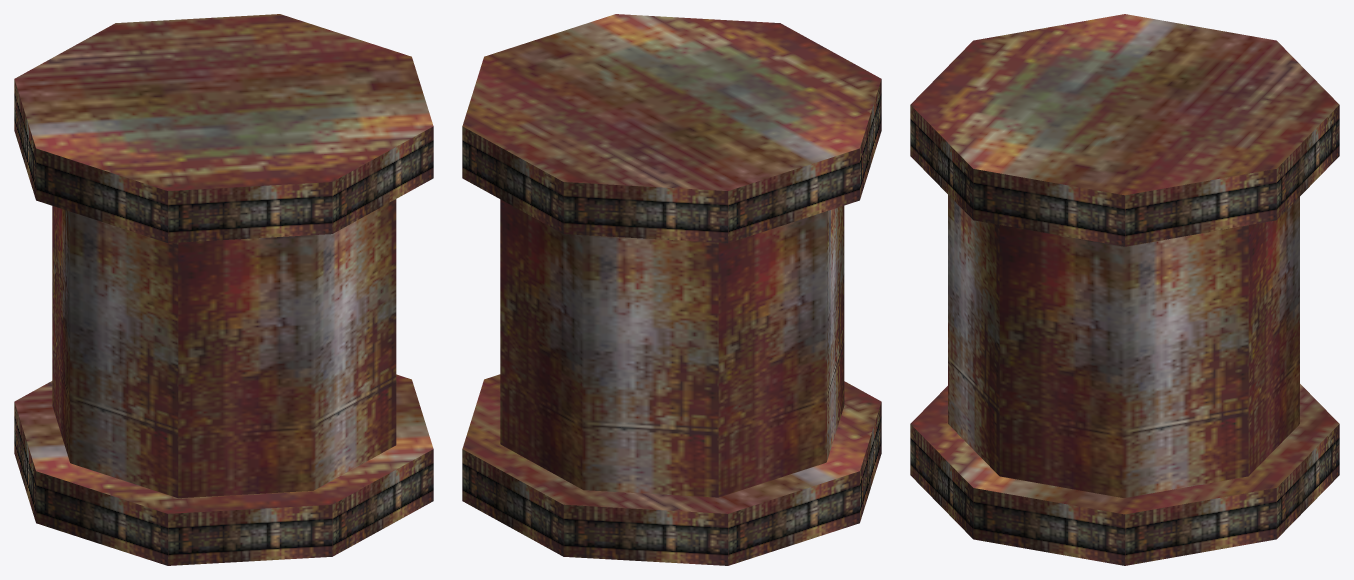
Rendered from straight_junction_rusty_8m.fbx.
3 views of the same model, side by side, from view 1: azimuth 30°, elevation 25°; view 2: azimuth 150°, elevation 25°; view 3: azimuth 270°, elevation 25° (orthographic).
Visible parts, largest first — view 1: mesh_0; view 2: mesh_0; view 3: mesh_0.
Part boxes in pixels (bbox=[...]): mesh_0: bbox=[14, 14, 433, 565]; mesh_0: bbox=[462, 14, 881, 565]; mesh_0: bbox=[910, 14, 1339, 565].
Size of the model in its own units: 60.93 by 58.07 by 60.93.
1 material, 1 textured.
